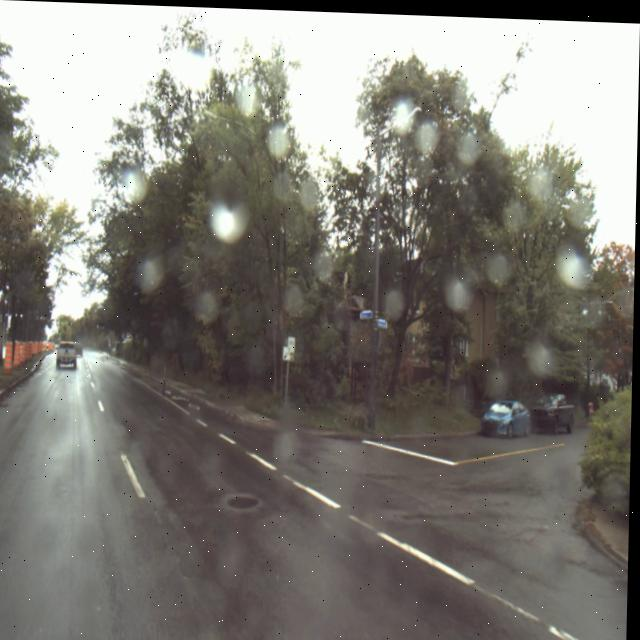car: (482, 396, 534, 437), (533, 388, 577, 432), (58, 340, 80, 371)
